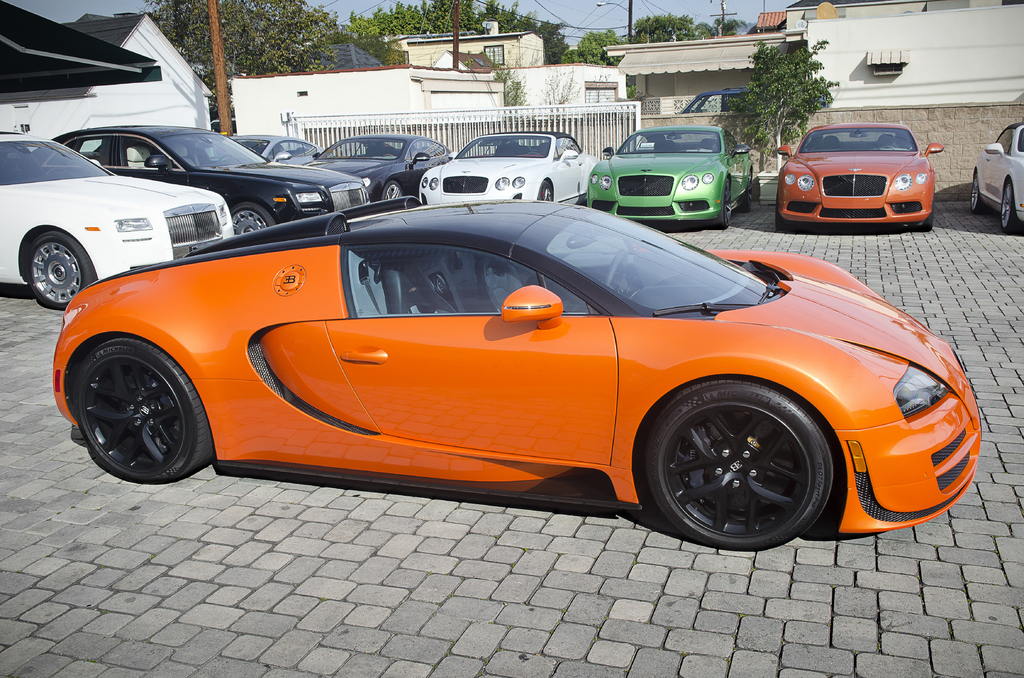car: (48, 196, 982, 559), (1, 124, 241, 320), (61, 120, 375, 231), (761, 113, 958, 235), (583, 108, 765, 236), (418, 122, 609, 213), (300, 120, 454, 208), (960, 116, 1024, 238), (228, 124, 323, 174)
